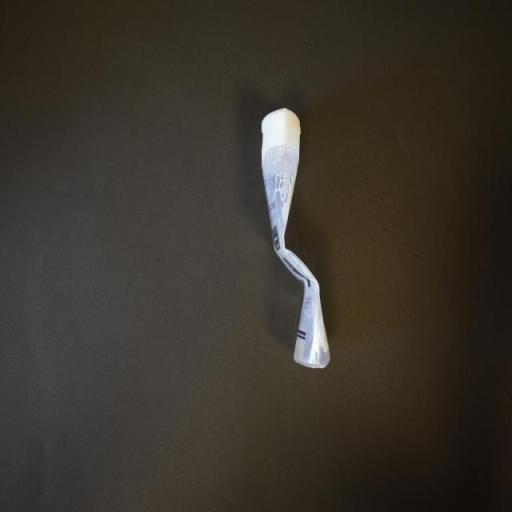plastic: (257, 105, 333, 375)
